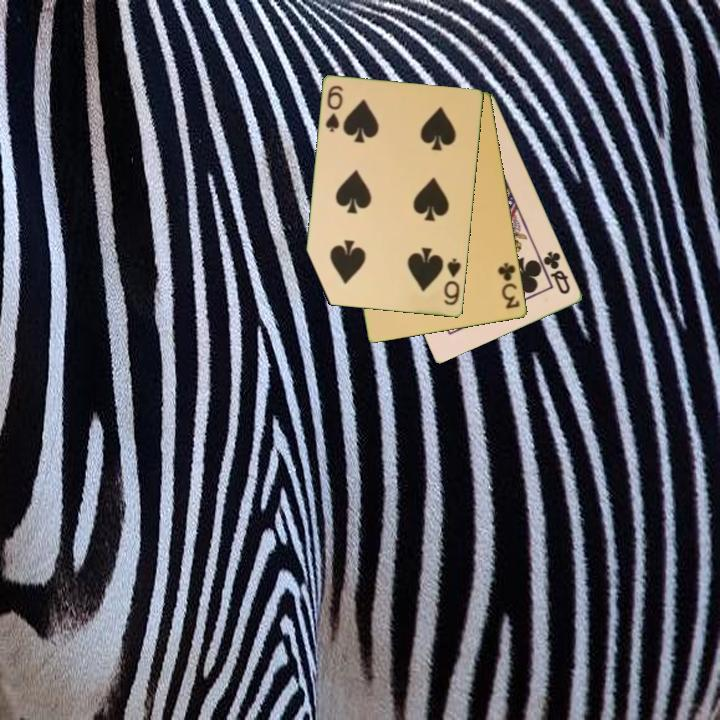3c: (494, 259, 523, 312)
6s: (322, 82, 346, 135), (441, 255, 464, 308)
Qc: (536, 247, 574, 297)
